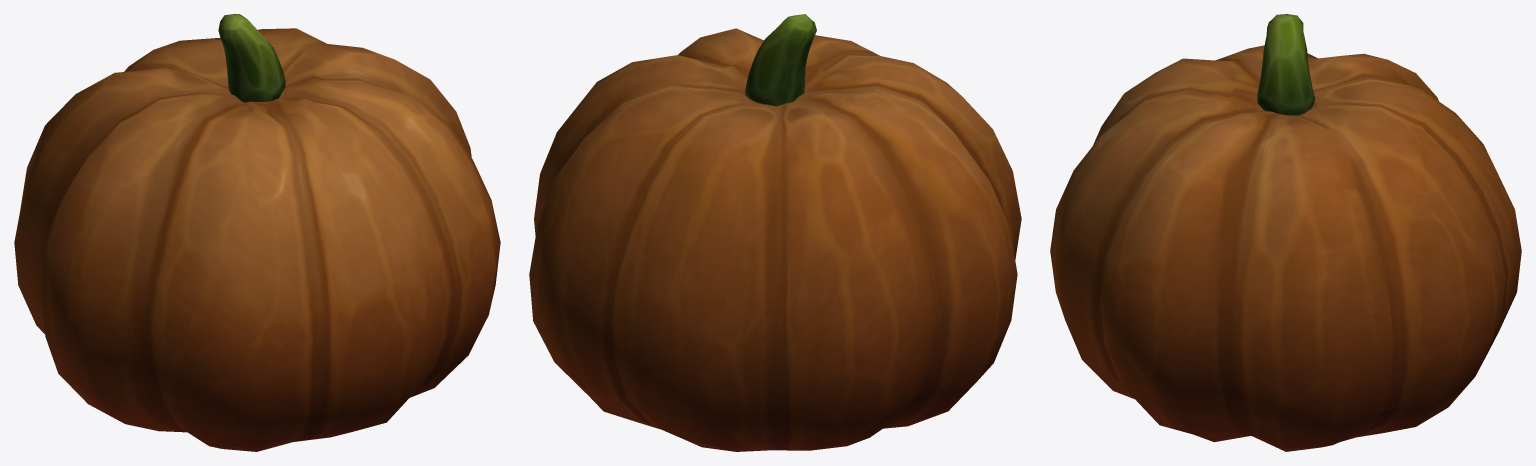
Rendered from pumpkin.glb.
The picture shows the model from 3 angles, left to right: view 1: azimuth 30°, elevation 25°; view 2: azimuth 150°, elevation 25°; view 3: azimuth 270°, elevation 25°; orthographic projection. The views are drawn at different scales.
Visible parts, largest first — view 1: SM_Pumpkin_L; view 2: SM_Pumpkin_L; view 3: SM_Pumpkin_L.
Part boxes in pixels (x1,y1,x2,y2): SM_Pumpkin_L: (14, 14, 500, 451); SM_Pumpkin_L: (529, 14, 1021, 451); SM_Pumpkin_L: (1050, 14, 1521, 451).
Bounding box in the file's own units: 107 × 91.61 × 104.
Materials: 1 (1 with a texture image).
